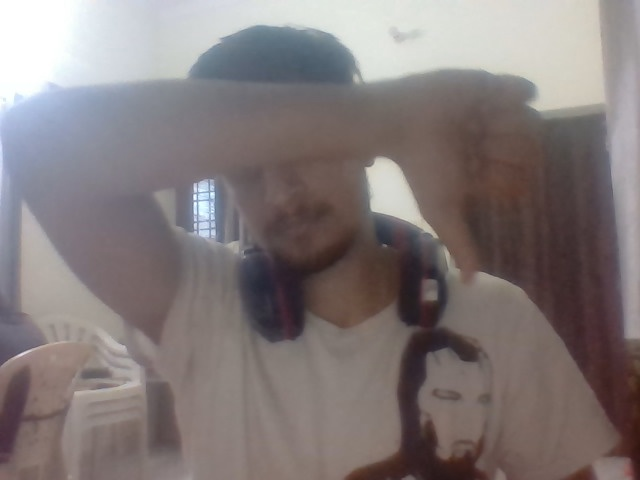ThumbsDown: (396, 69, 541, 285)
